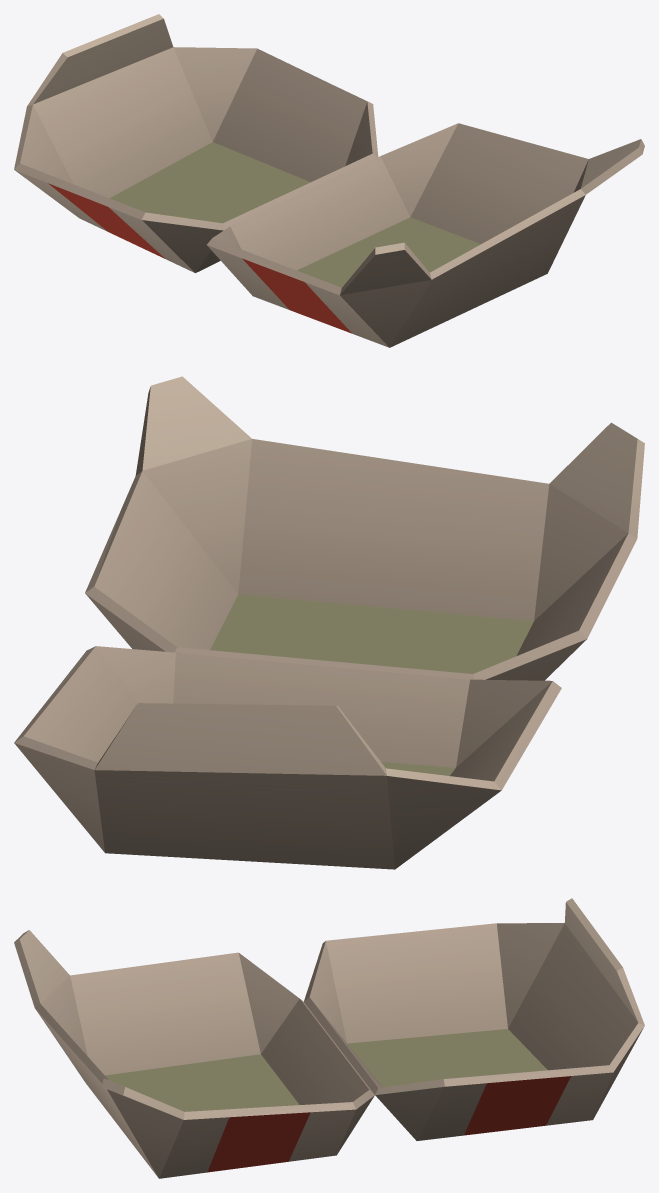
File: Trash_005.fbx
The picture shows the model from 3 angles, top to bottom: view 1: azimuth 30°, elevation 25°; view 2: azimuth 150°, elevation 25°; view 3: azimuth 270°, elevation 25°; orthographic projection. The views are drawn at different scales.
Parts seen in each view (by area): view 1: Trash_005; view 2: Trash_005; view 3: Trash_005.
Part boxes in pixels (x1,y1,x2,y2): Trash_005: (14,14,644,347); Trash_005: (14,376,644,869); Trash_005: (14,898,644,1178).
Size of the model in its own units: 23.01 by 27.82 by 6.97.
